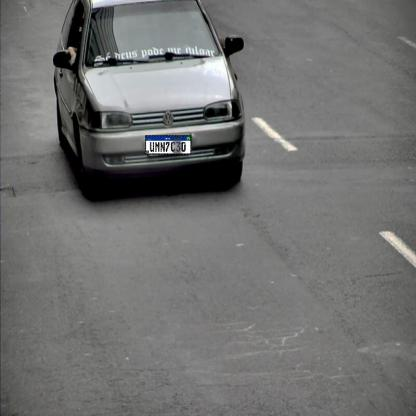PlacaM: (145, 135, 191, 155)
